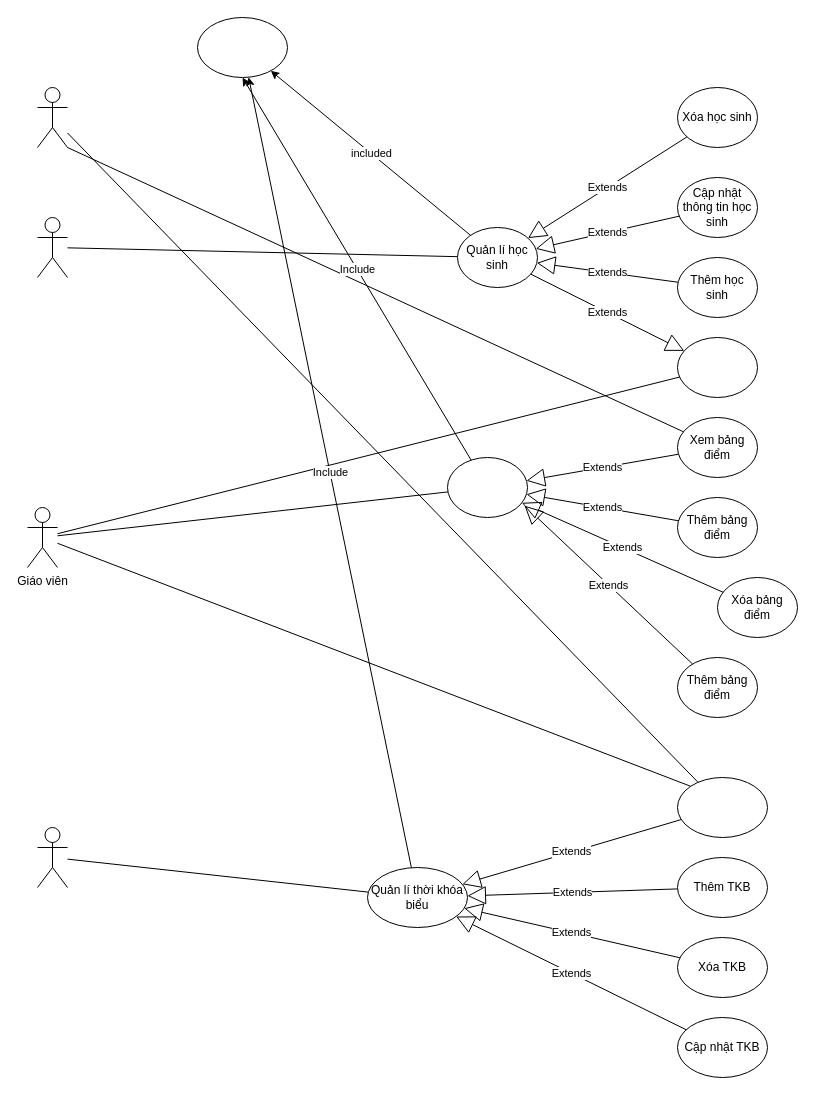
Image size: 815x1095. Some labels were removed from this diagram. Here are the shapes that lost their labels. From the top down, the centre of each, then its label:
At (242,47): "Đăng nhập".
At (52,117): "Học sinh".
At (52,247): "Quản lí".
At (717,367): "Xem danh sách học sinh".
At (487,487): "Quản lí bảng điểm".
At (722,807): "Xem TKB".
At (52,857): "Học vụ".
